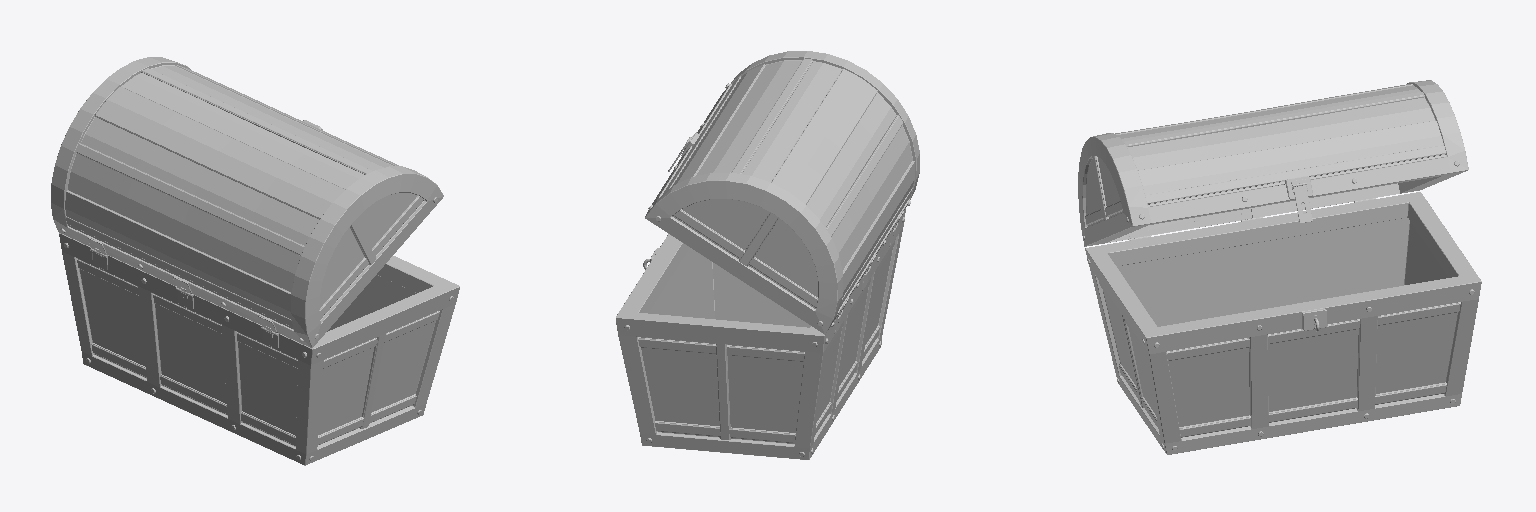
File: chest.obj
3 renders of one model, left to right at view 1: azimuth 30°, elevation 25°; view 2: azimuth 150°, elevation 25°; view 3: azimuth 270°, elevation 25°, orthographic.
Visible parts, largest first — view 1: Open_Chest_1; view 2: Open_Chest_1; view 3: Open_Chest_1.
Boxes of the visible parts, x1,y1,x2,y2 form: Open_Chest_1: [51, 57, 459, 465]; Open_Chest_1: [616, 51, 919, 459]; Open_Chest_1: [1078, 80, 1481, 454].
Bounding box in the file's own units: 0.9061 × 0.9132 × 1.15.